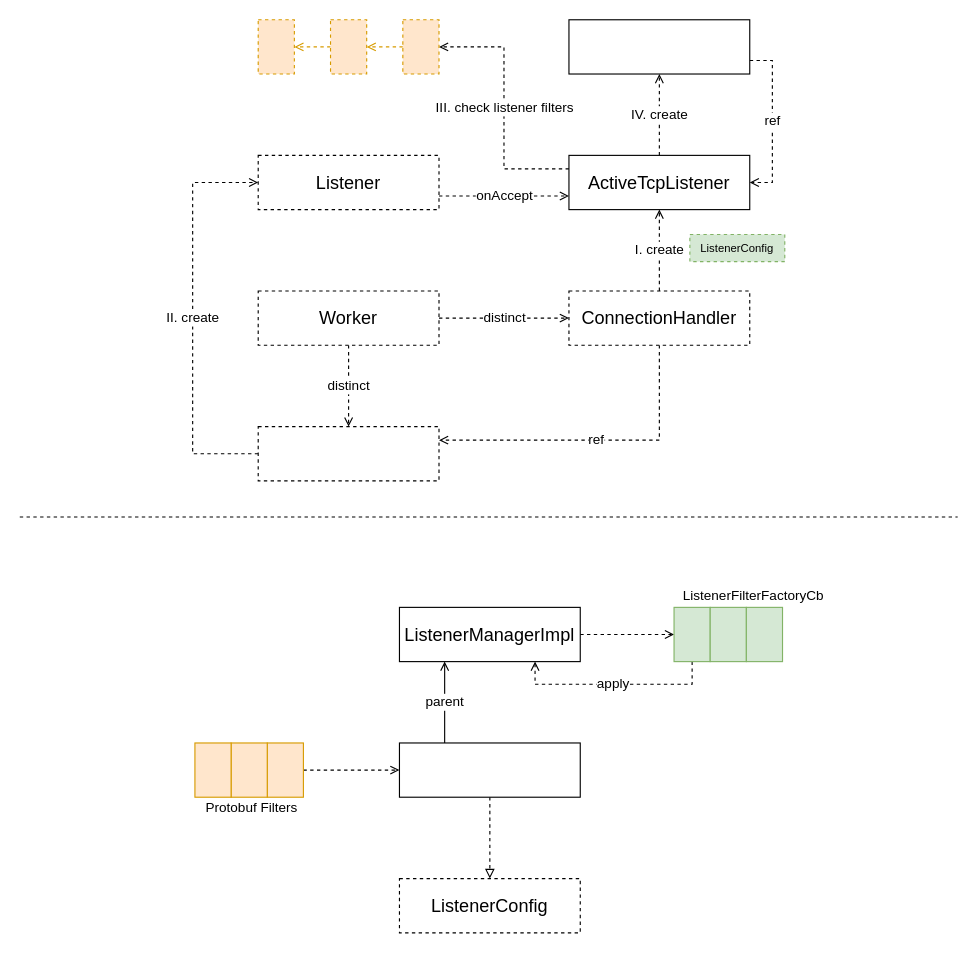
The diagram is 979 pixels wide and 953 high, and some of its shapes have lost their labels. The box of each missing label's shape, as (x1, y1, x2, y2) in pixels:
ActiveConnection: (568, 19, 750, 74)
Dispatcher: (257, 425, 439, 481)
ListenerImpl: (398, 742, 580, 797)
